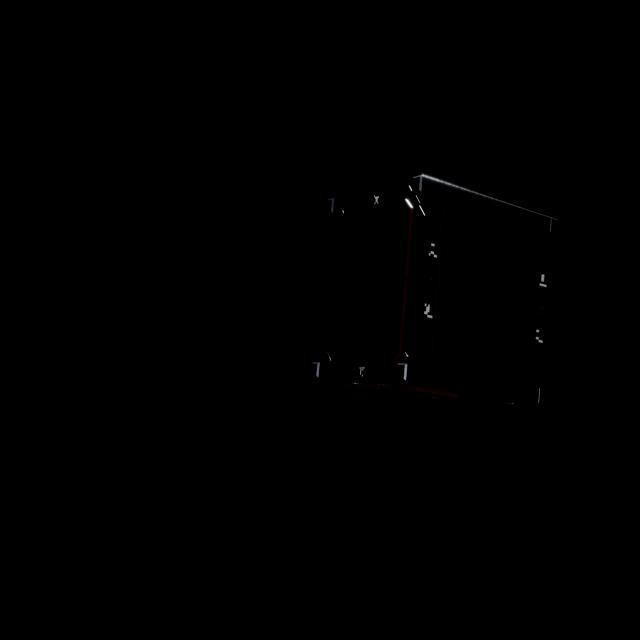satellite: (284, 161, 563, 455)
